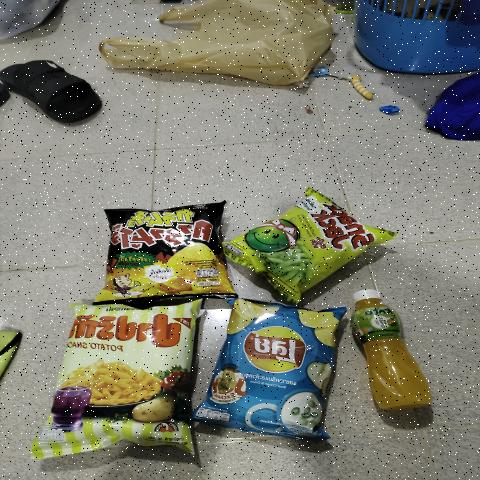karamujo: (100, 203, 218, 300)
lay_blue: (216, 309, 339, 421)
paprika: (47, 306, 194, 458)
snack_jack: (245, 193, 364, 290)
